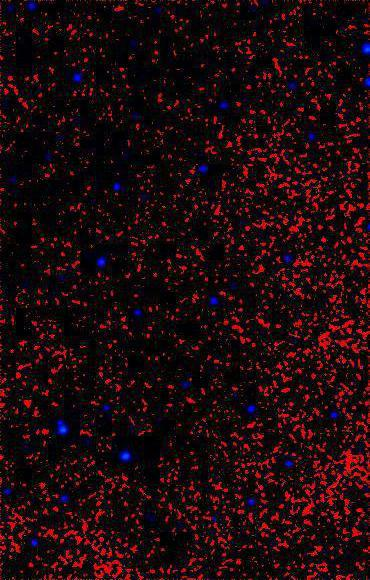star: (41, 398, 71, 428)
